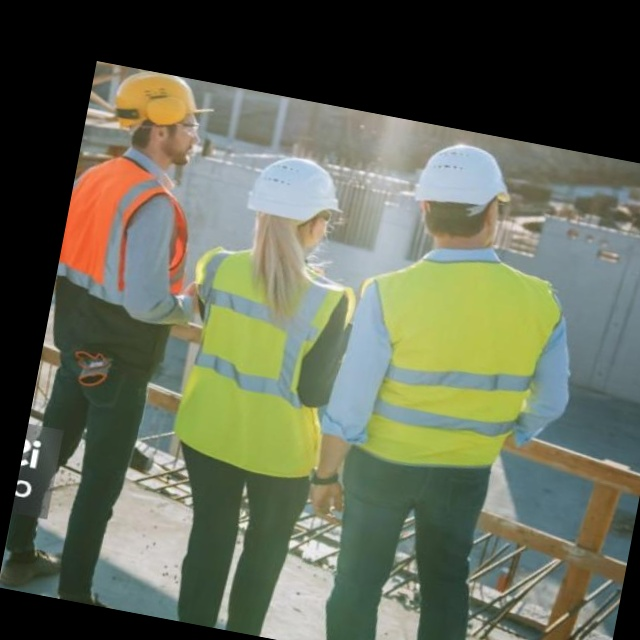Con_Casco: (403, 137, 518, 258), (237, 150, 351, 259), (104, 65, 218, 168)
Con_Chaleco: (330, 243, 563, 489), (161, 239, 361, 483), (42, 152, 207, 379)
